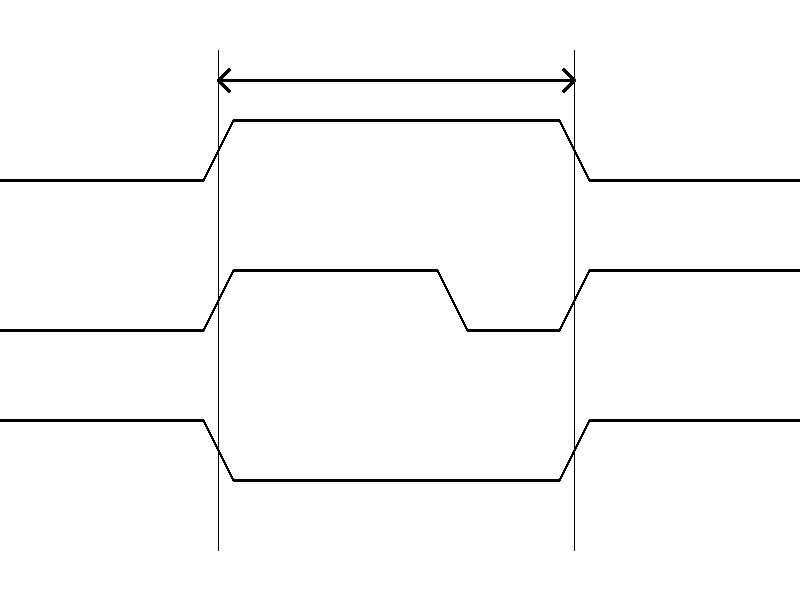double_arrow: (218, 65, 574, 95)
